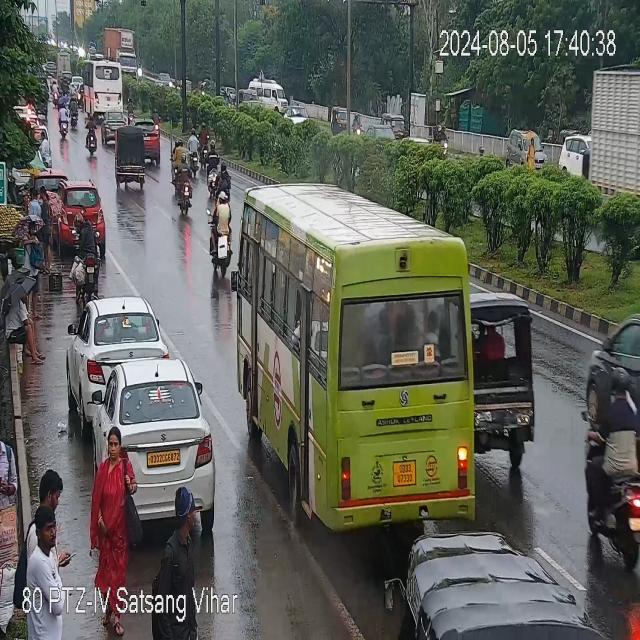2-wheelers: (579, 358, 640, 548), (70, 212, 100, 294), (183, 125, 220, 173), (211, 188, 231, 274), (206, 156, 233, 206), (171, 161, 195, 214), (83, 106, 101, 159), (57, 94, 74, 139), (168, 132, 184, 168), (68, 95, 80, 127), (152, 109, 162, 132), (126, 92, 133, 123)
auto: (383, 520, 573, 640), (475, 288, 551, 455), (115, 123, 149, 187)
bus: (229, 180, 477, 540), (83, 62, 125, 118)
car: (98, 358, 218, 518), (71, 294, 161, 398), (577, 314, 636, 446), (509, 125, 541, 173), (557, 132, 588, 174), (142, 116, 161, 164)
pedestrian: (0, 425, 72, 583), (92, 411, 124, 602), (165, 476, 204, 594), (7, 288, 38, 362), (22, 209, 41, 306), (28, 187, 52, 230), (529, 135, 537, 165)
truck: (574, 60, 636, 210)
